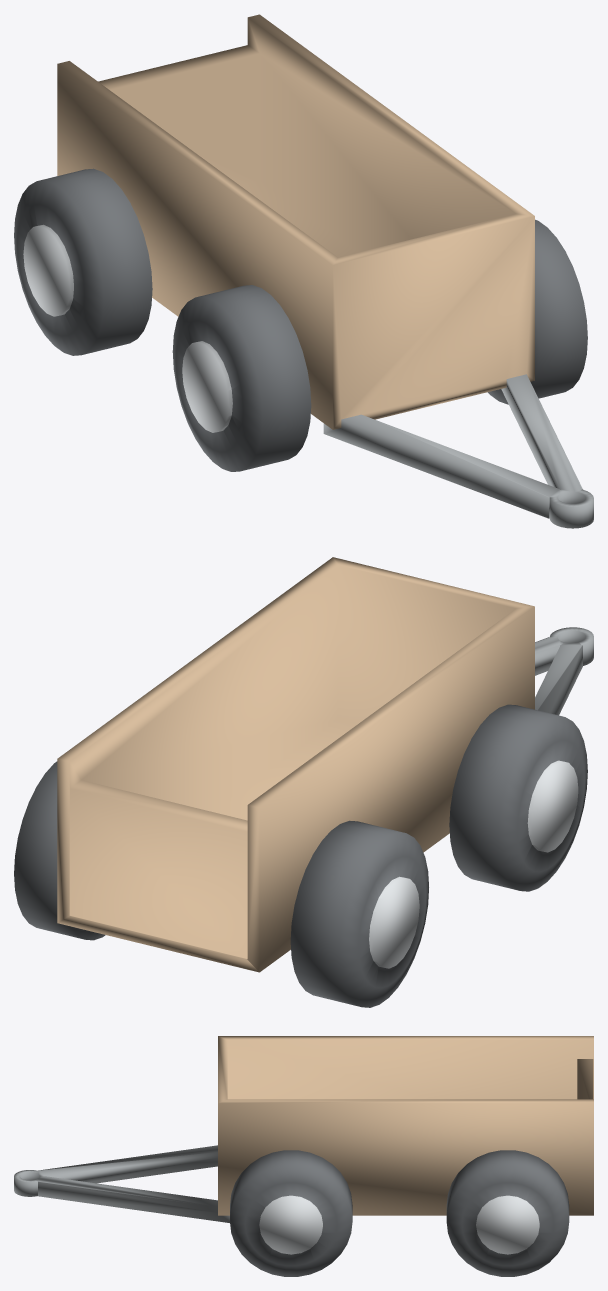
Rendered from Trailer2.fbx.
The picture shows the model from 3 angles, top to bottom: view 1: azimuth 30°, elevation 25°; view 2: azimuth 150°, elevation 25°; view 3: azimuth 270°, elevation 25°; orthographic projection. The views are drawn at different scales.
Parts seen in each view (by area): view 1: obj_0.004; view 2: obj_0.004; view 3: obj_0.004.
Part boxes in pixels (<box>): obj_0.004: <box>14,14,593,528</box>; obj_0.004: <box>14,557,593,1007</box>; obj_0.004: <box>14,1036,593,1276</box>.
Size of the model in its own units: 8645 by 5303 by 18200.
